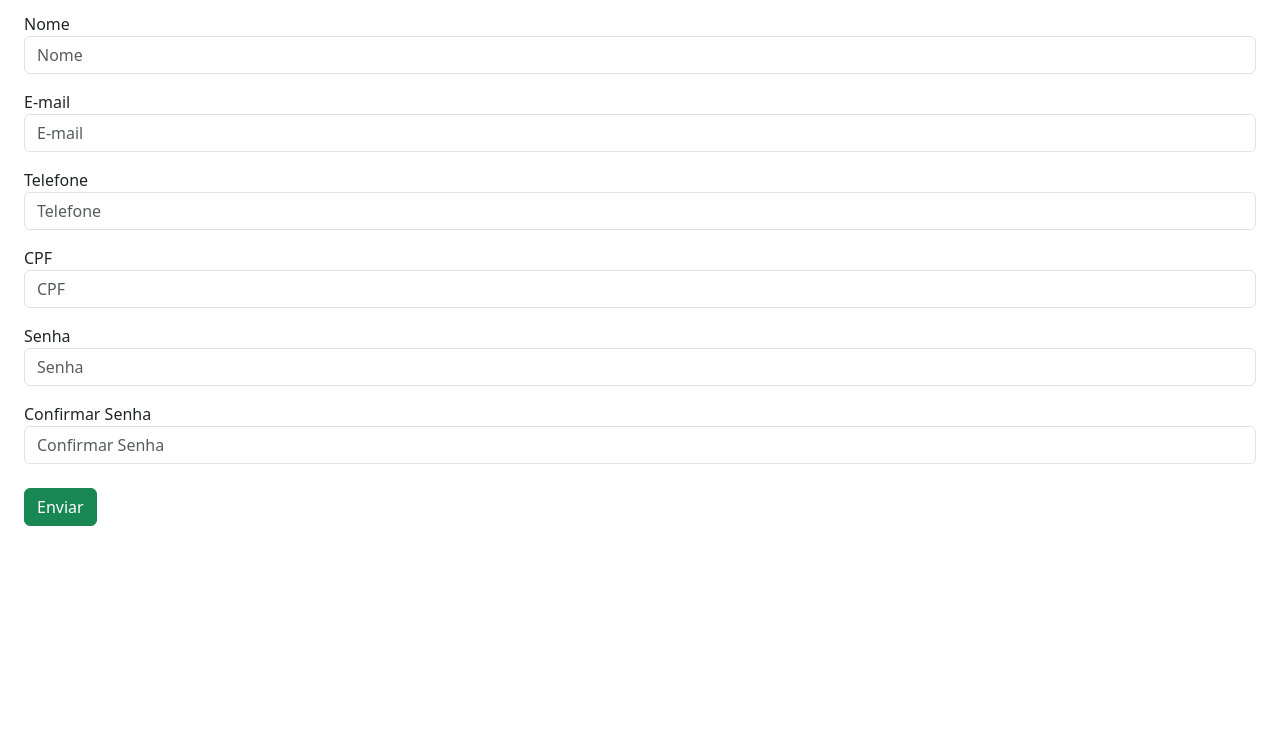
Test: register user › should show error when phone does not have 11 digits
Type "Usuário teste" into the field with test id "name". click: (640, 55)
box: left=24, top=36, right=1256, bottom=74
Type "usuario@teste.com" into the field with test id "email". click: (640, 133)
box: left=24, top=114, right=1256, bottom=152
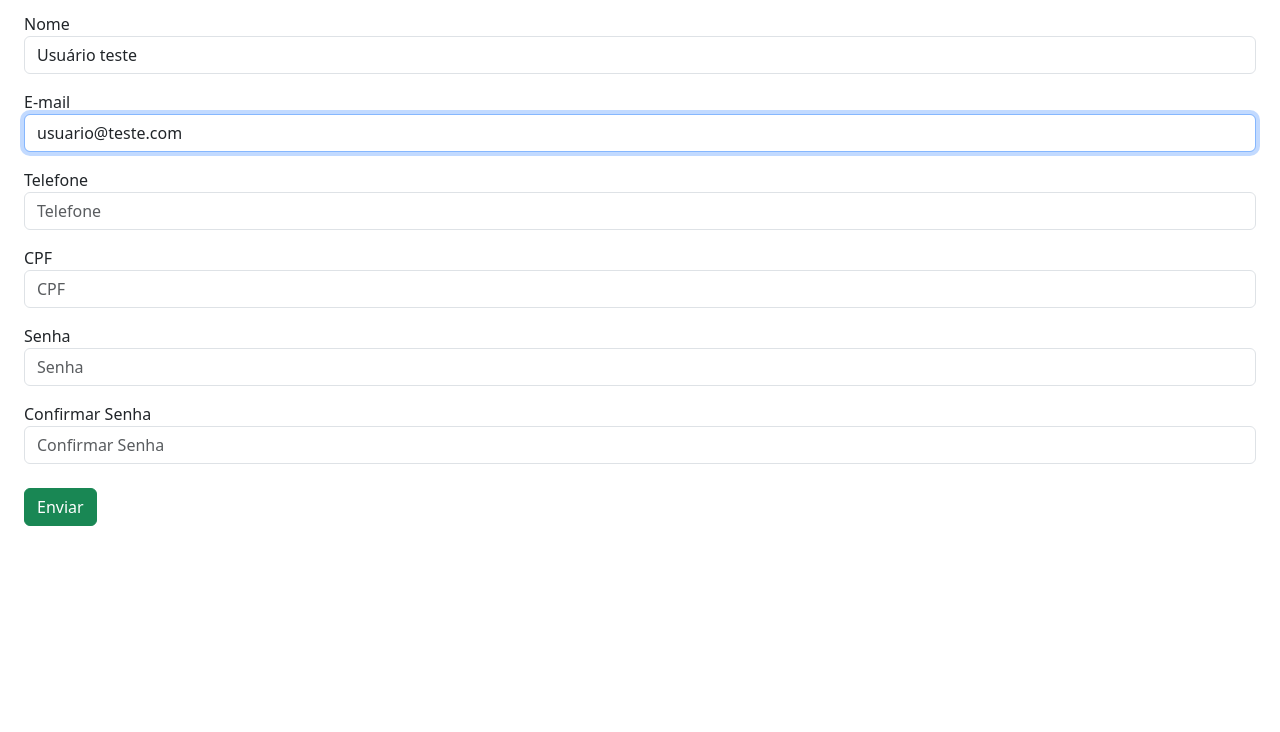
Type "85924" into the field with test id "phone". click: (640, 211)
box: left=24, top=192, right=1256, bottom=230
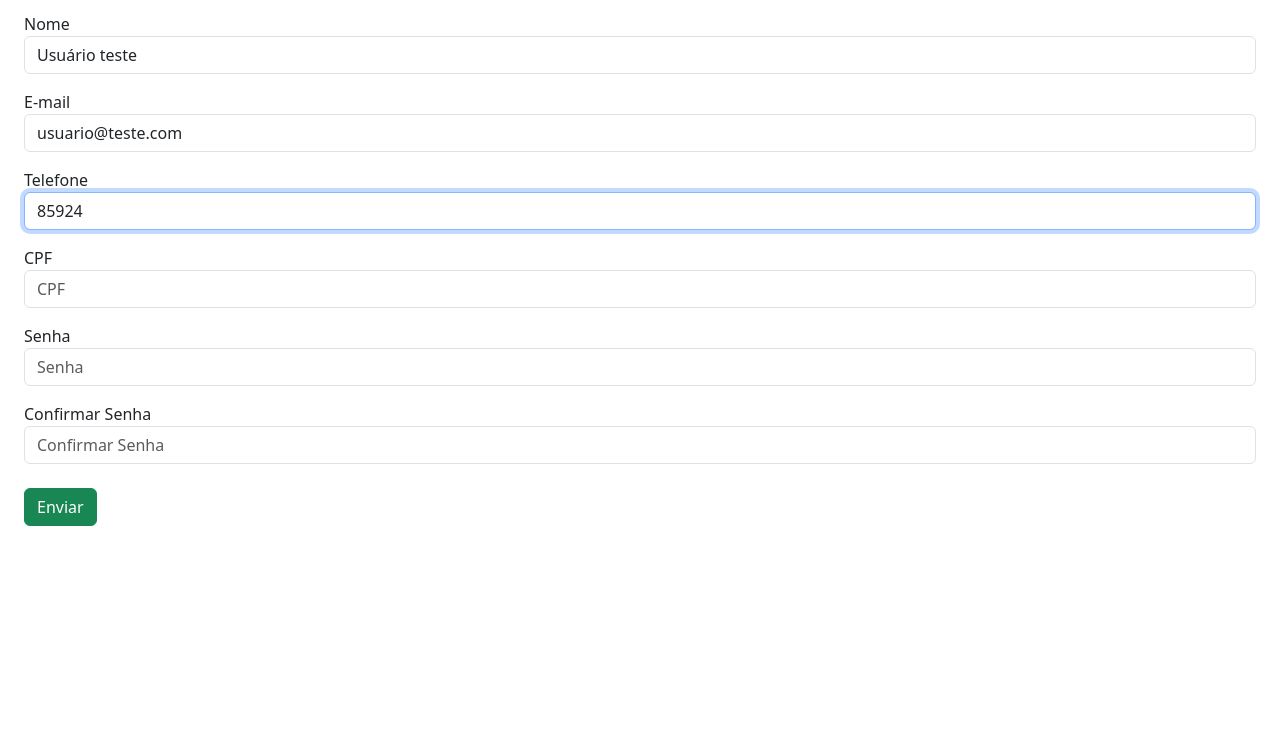
Type "54544140005" into the field with test id "identifier". click: (640, 289)
box: left=24, top=270, right=1256, bottom=308
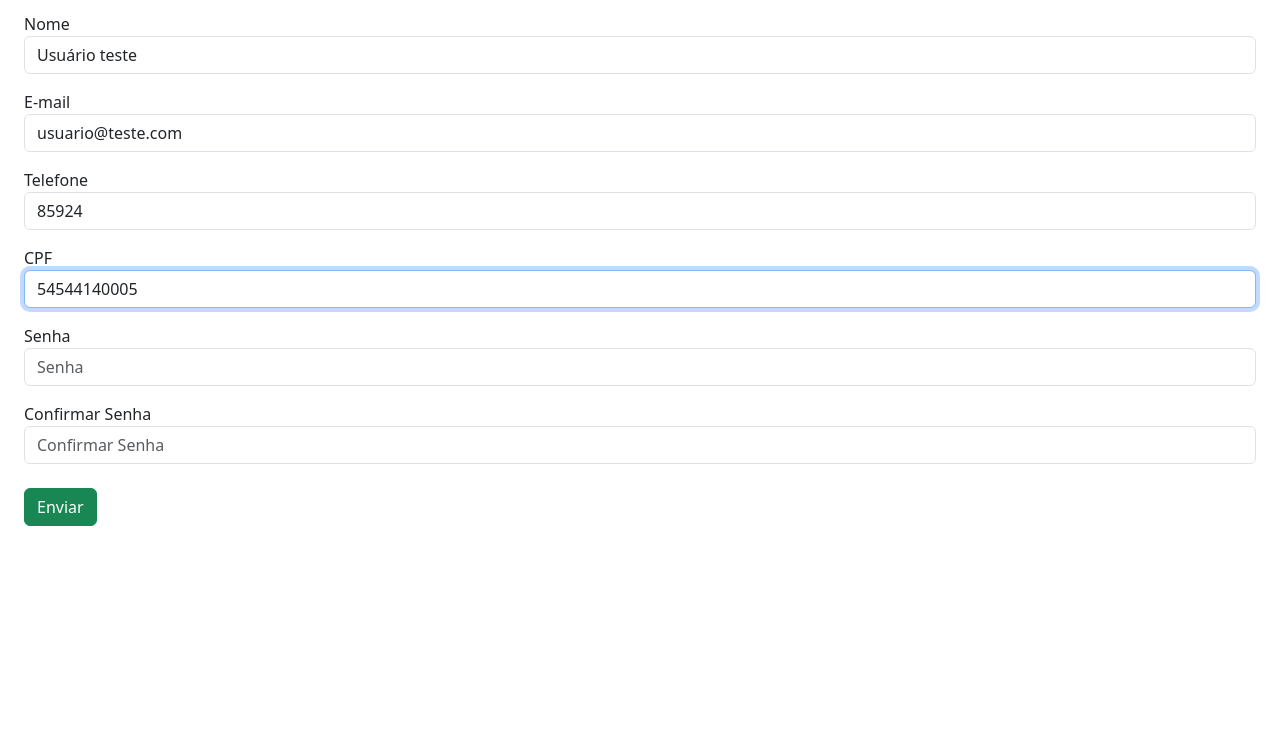
Type "senha123" into the password field with test id "password". click: (640, 367)
box: left=24, top=348, right=1256, bottom=386
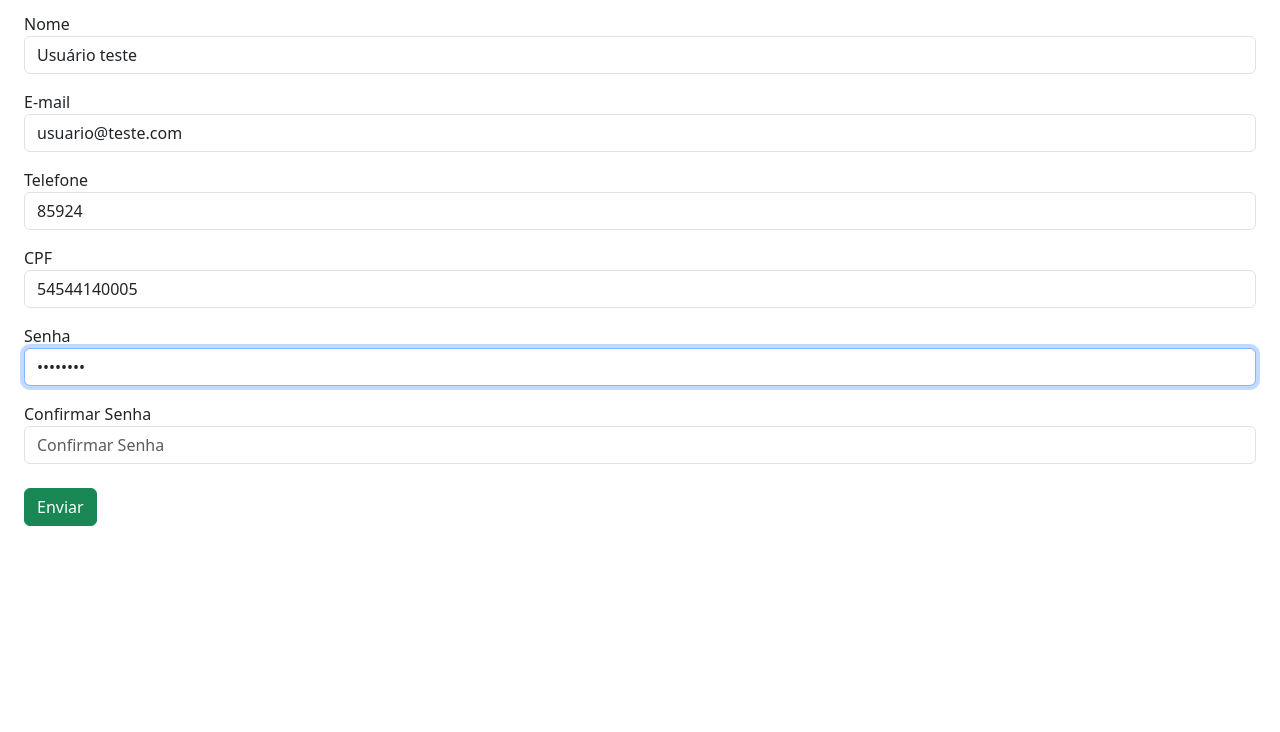
Type "senha123" into the password field with test id "confirmPassword". click: (640, 445)
box: left=24, top=426, right=1256, bottom=464
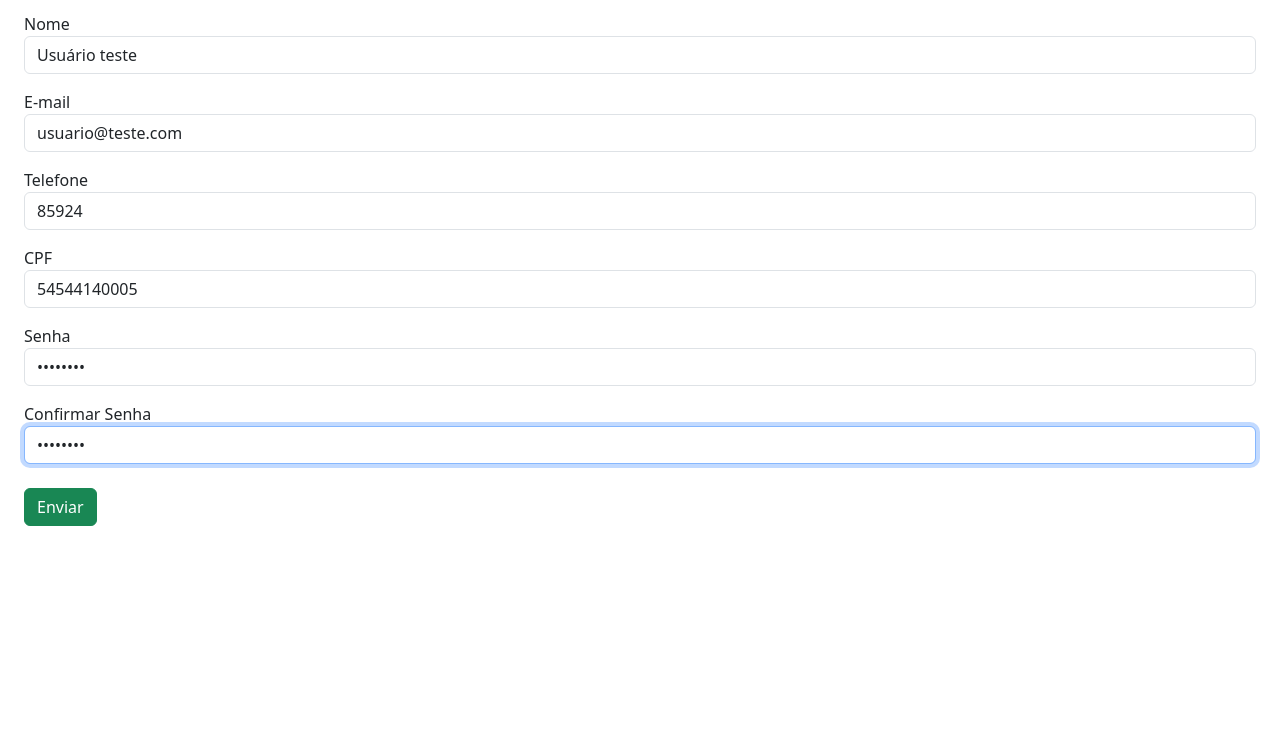
Submit the form
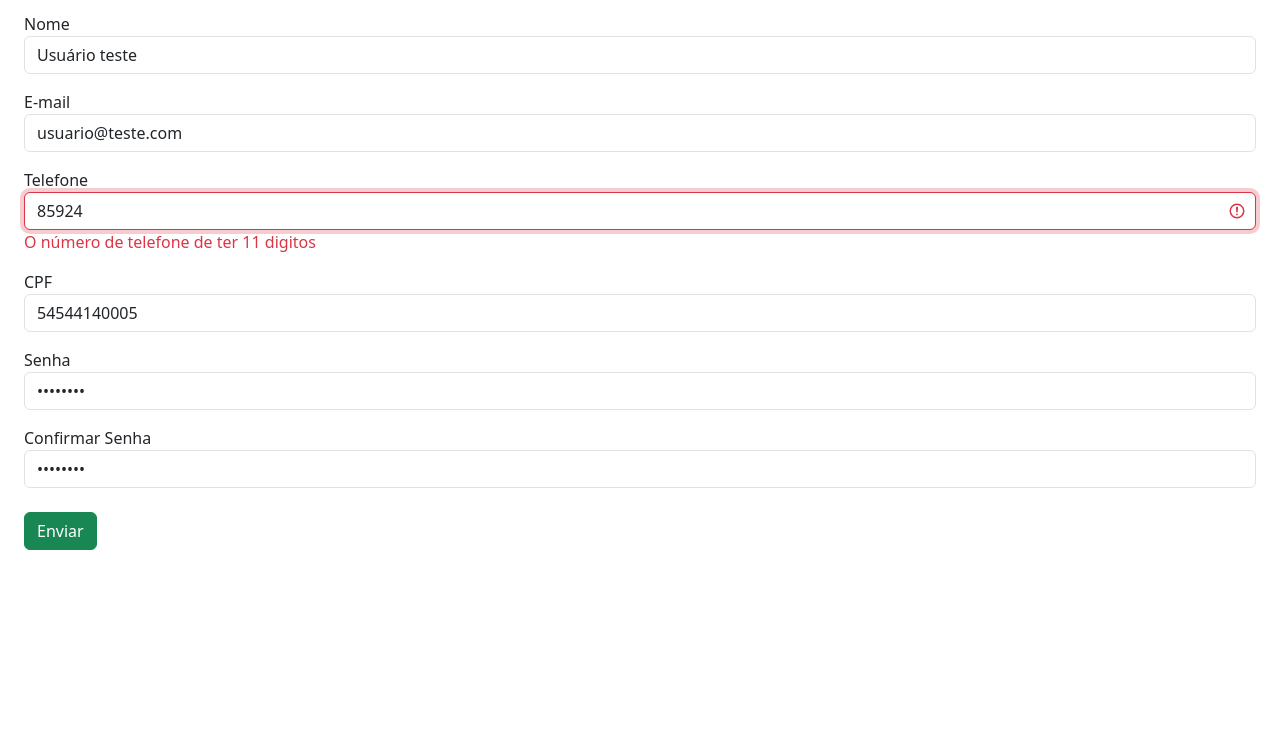
Check: the text with test id "phone-error" reads "O número de telefone de ter 11 digitos", box left=24, top=231, right=316, bottom=253
